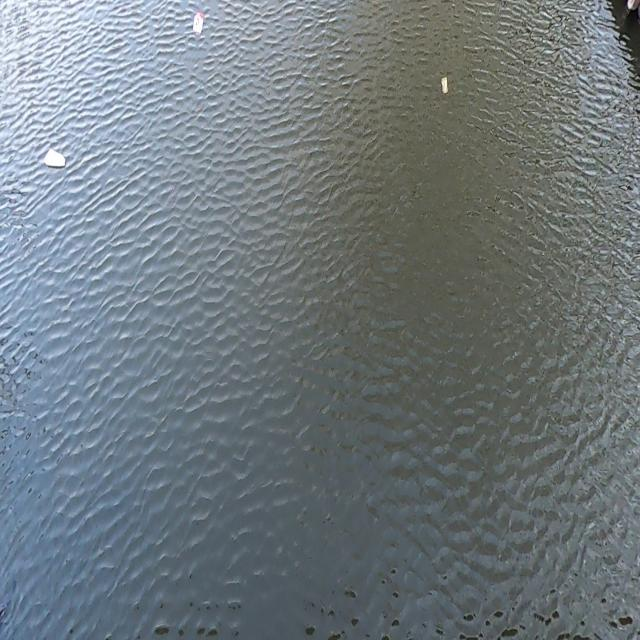Bouteille plastique: (190, 4, 208, 43)
